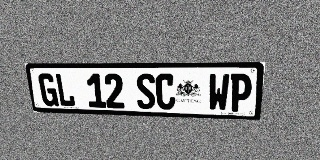1: (85, 73, 106, 108)
2: (104, 73, 124, 108)
C: (155, 73, 175, 110)
G: (37, 73, 59, 106)
L: (54, 73, 76, 107)
P: (229, 74, 253, 112)
S: (135, 73, 156, 109)
W: (208, 74, 230, 111)
